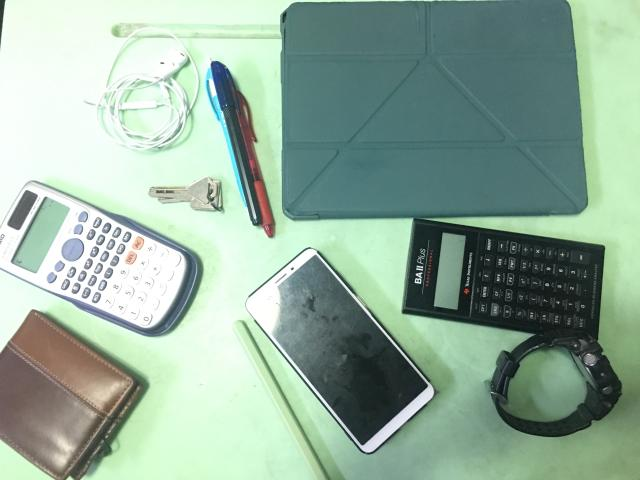Keys: (148, 176, 224, 214)
Mobile phone: (244, 249, 437, 457)
Pen: (205, 61, 276, 237)
Wallet: (0, 312, 146, 480)
Watch: (402, 218, 606, 340), (490, 328, 626, 440)
wire: (93, 36, 199, 153)
